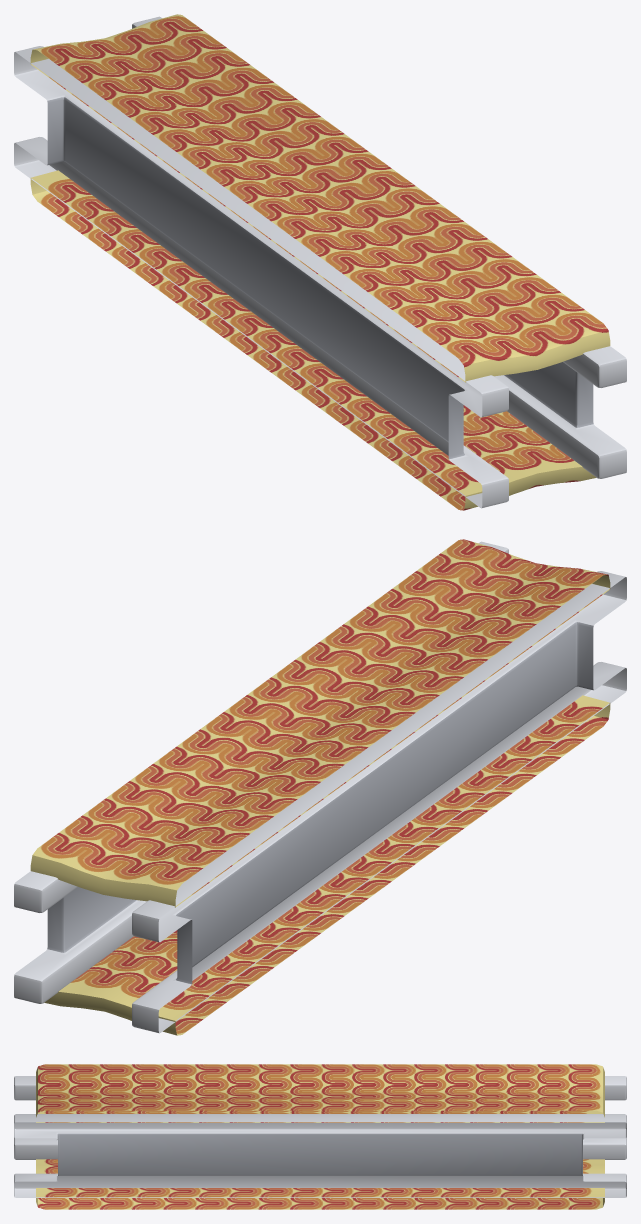
The model's file is SM_WallDestructible_50x50.fbx.
The picture shows the model from 3 angles, top to bottom: view 1: azimuth 30°, elevation 25°; view 2: azimuth 150°, elevation 25°; view 3: azimuth 270°, elevation 25°; orthographic projection. The views are drawn at different scales.
Visible parts, largest first — view 1: SM_WallDestructible_50x50; view 2: SM_WallDestructible_50x50; view 3: SM_WallDestructible_50x50.
Part boxes in pixels (x1=…): SM_WallDestructible_50x50: x1=14, y1=14, x2=626, y2=510; SM_WallDestructible_50x50: x1=14, y1=539, x2=626, y2=1035; SM_WallDestructible_50x50: x1=14, y1=1064, x2=626, y2=1209.
Size of the model in its own units: 50 by 280 by 49.9.
1 material, 1 textured.
